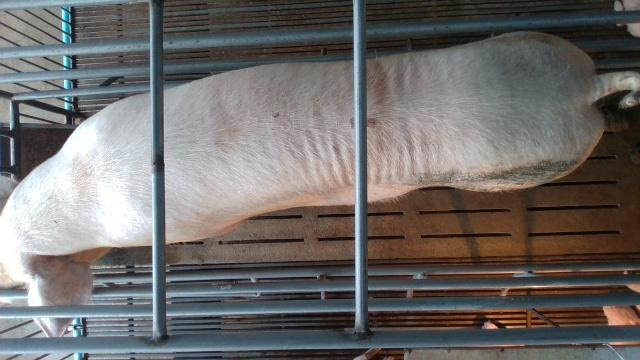sow-stand-feed: (0, 28, 640, 337)
